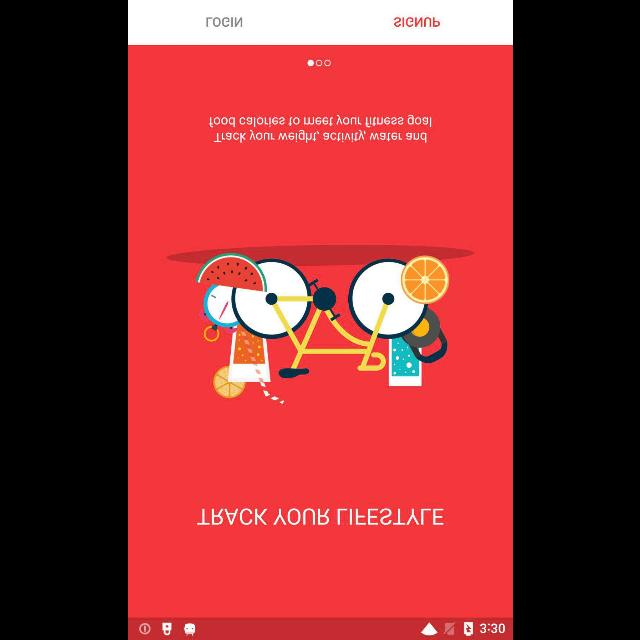image: (165, 245, 472, 405)
pageindicator: (306, 58, 330, 68)
text: (208, 115, 430, 143), (195, 508, 442, 526), (392, 16, 440, 28), (205, 17, 242, 27)
uppertaskbar: (128, 617, 512, 639)
